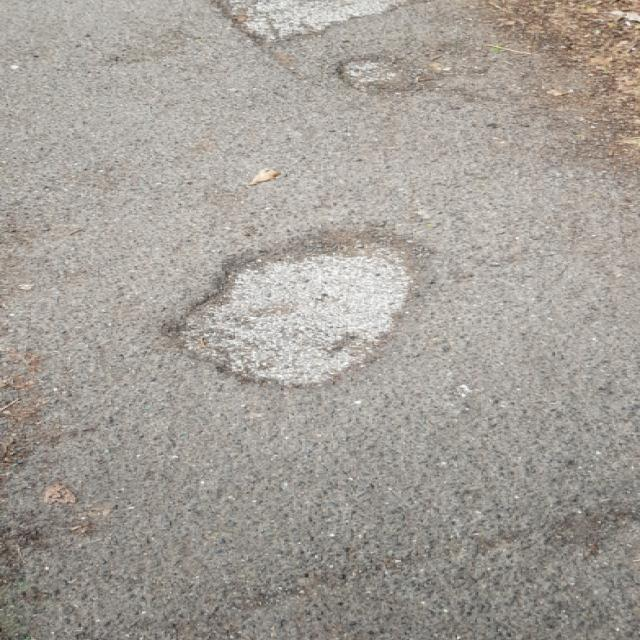Pothole: (158, 226, 426, 391), (202, 1, 419, 47), (329, 55, 414, 89)
